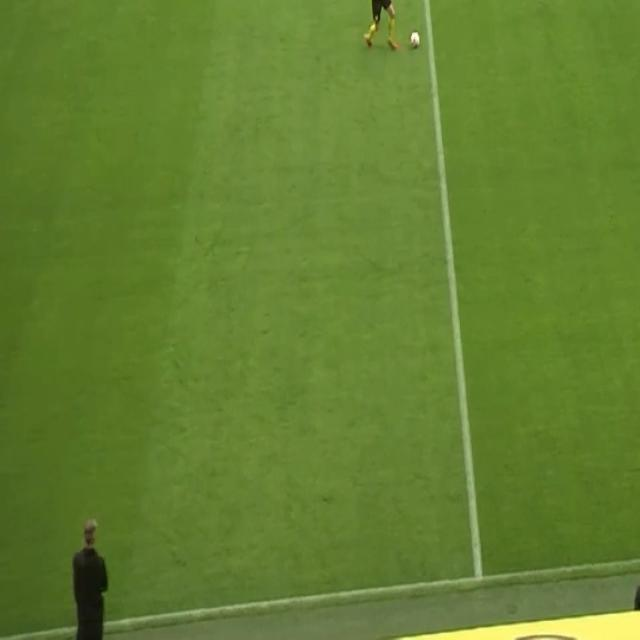ball: (409, 30, 421, 52)
